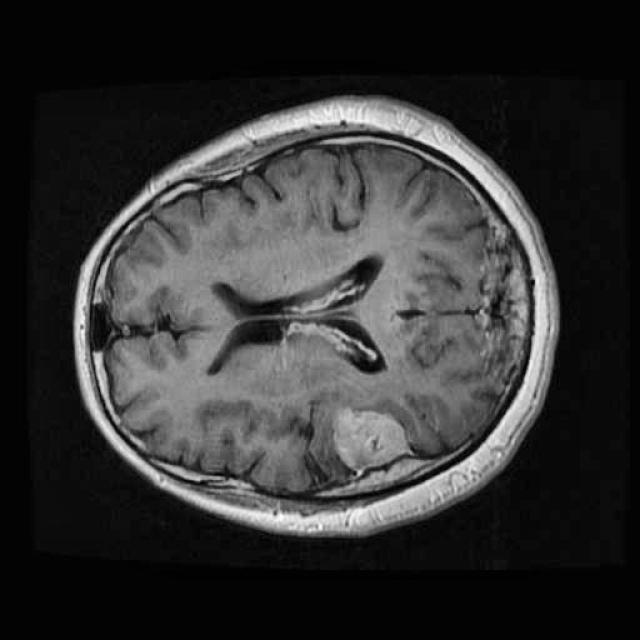Tumor: (326, 392, 423, 490)
